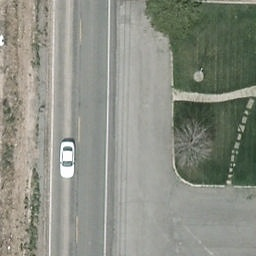car: (59, 139, 76, 180)
